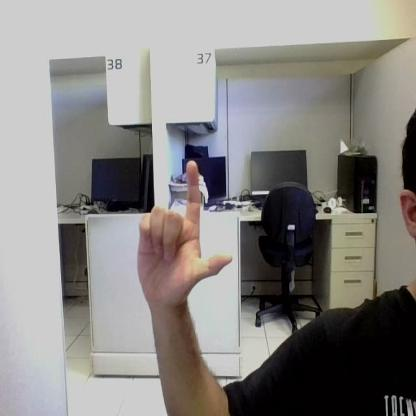L: (138, 160, 232, 302)
